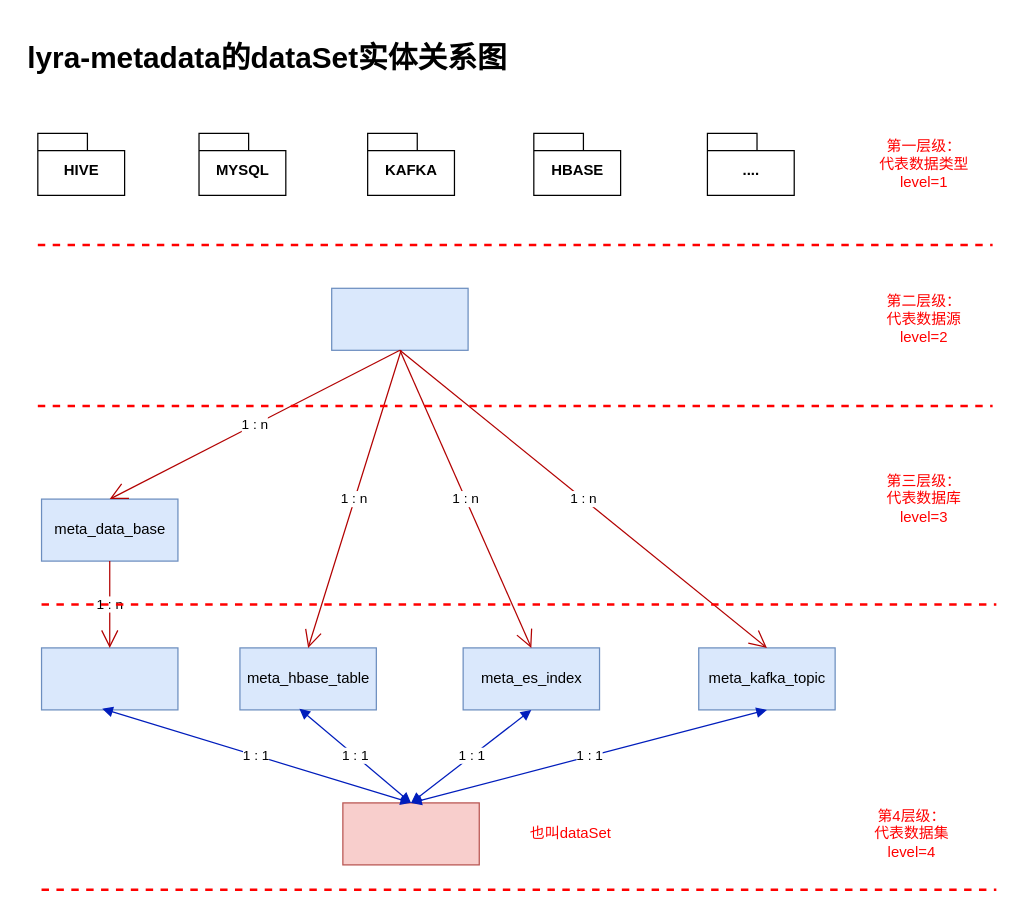
Some shapes in this 1019 by 913 pixel diagram are drawn without their labels. The centre of each missing label's shape, as x and y in pixels:
"meta_data_schema" belongs at (x=410, y=833).
"meta_data_source" belongs at (x=399, y=318).
"meta_db_table" belongs at (x=109, y=678).
